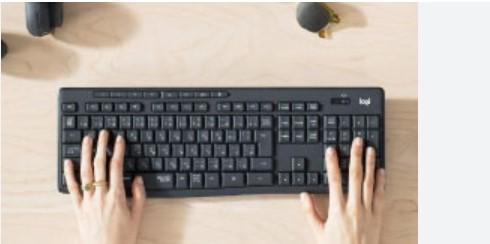Keyboard: (58, 87, 386, 198)
